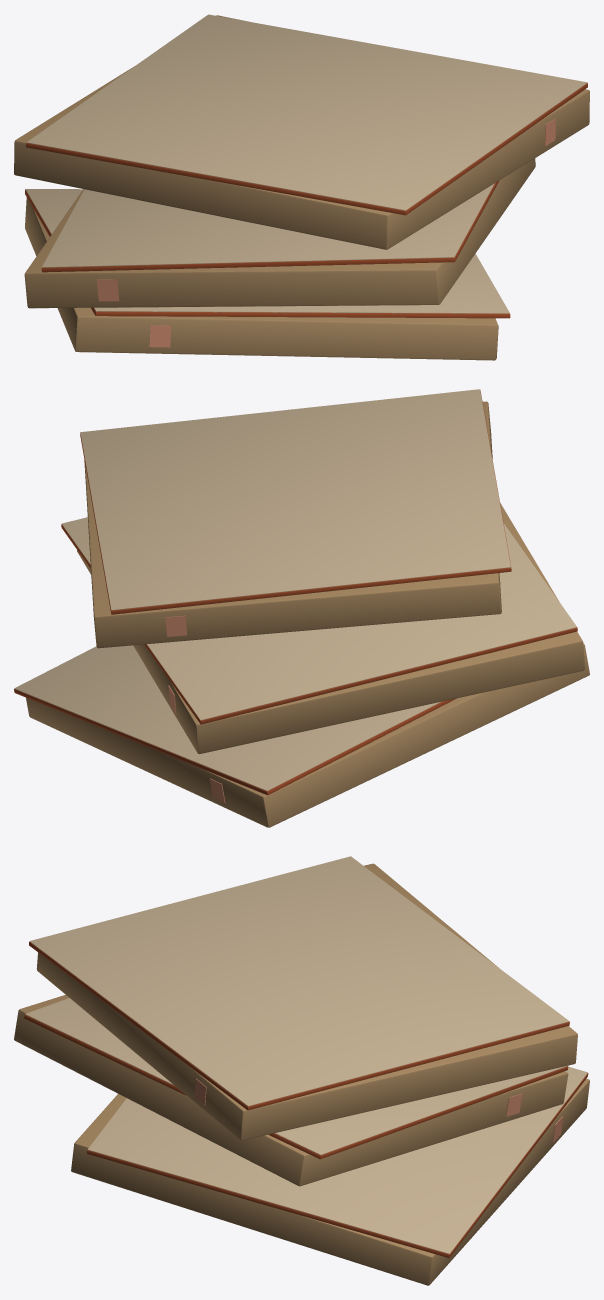
The model's file is PIS-CER-002_anim.glb.
3 views of the same model, one above another, from view 1: azimuth 30°, elevation 25°; view 2: azimuth 150°, elevation 25°; view 3: azimuth 270°, elevation 25° (orthographic). The views are drawn at different scales.
Visible parts, largest first — view 1: PIS-CER-002_anim2, PIS-CER-002_anim1, PIS-CER-002_anim0; view 2: PIS-CER-002_anim2, PIS-CER-002_anim1, PIS-CER-002_anim0; view 3: PIS-CER-002_anim2, PIS-CER-002_anim0, PIS-CER-002_anim1.
Part boxes in pixels (x1,y1,x2,y2): PIS-CER-002_anim2: (14, 14, 589, 249); PIS-CER-002_anim1: (24, 158, 535, 308); PIS-CER-002_anim0: (25, 189, 510, 360); PIS-CER-002_anim2: (80, 389, 511, 648); PIS-CER-002_anim1: (61, 502, 584, 753); PIS-CER-002_anim0: (14, 643, 589, 827); PIS-CER-002_anim2: (29, 856, 577, 1140); PIS-CER-002_anim0: (71, 1066, 589, 1285); PIS-CER-002_anim1: (14, 994, 568, 1186).
Size of the model in its own units: 0.895 by 0.3894 by 0.8852.
6 materials, 4 textured.
